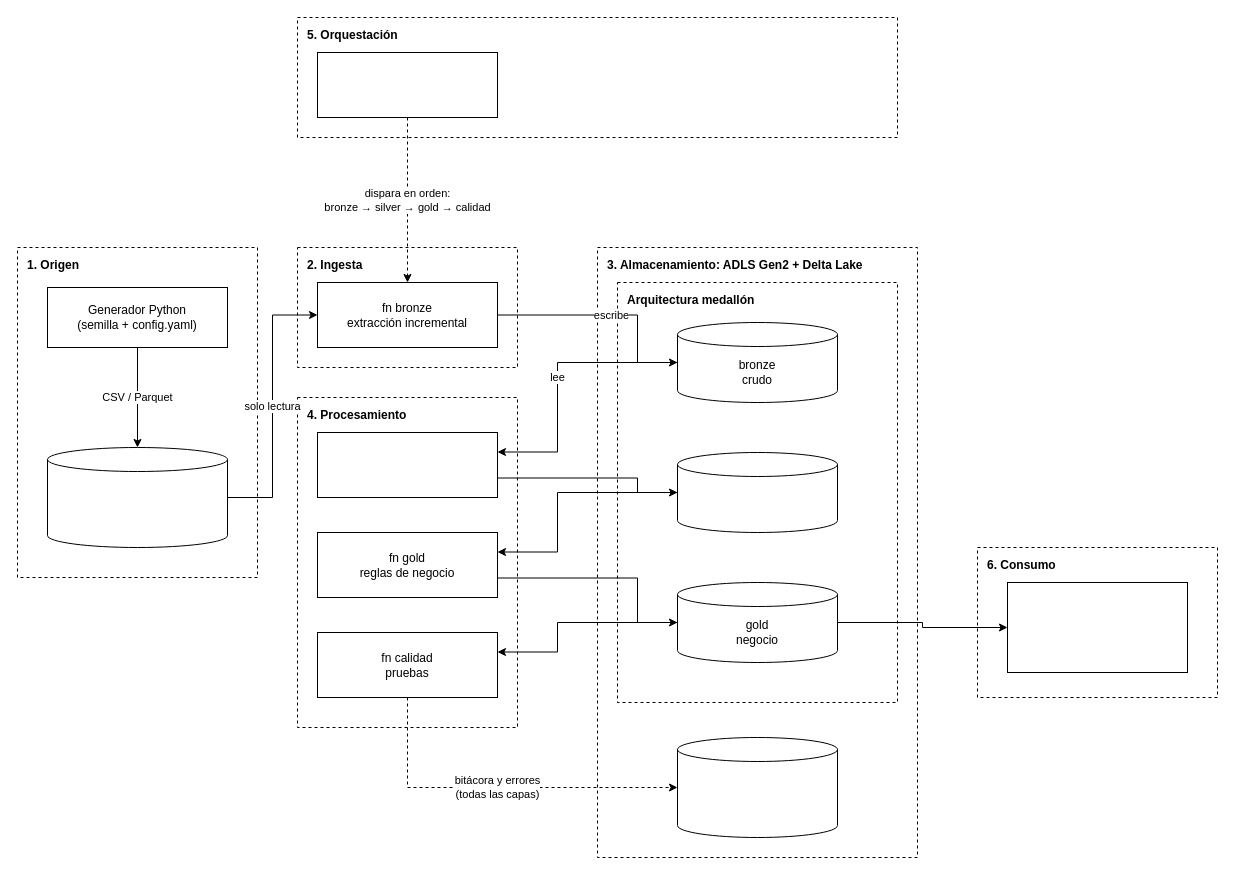
The diagram is 1235 pixels wide and 875 high, and some of its shapes have lost their labels. The centre of each missing label's shape, as x and y in pixels:
"Analistas Power BI / SQL (solo lectura de gold)" goes at [1097,627].
"Azure Data Factory diario 02:00 (Bogotá)" goes at [407,85].
"Azure SQL Database RetailMax" goes at [137,497].
"fn silver limpieza + calidad" goes at [407,465].
"ops logs, errores, marcas de agua" goes at [757,787].
"silver limpio" goes at [757,492].
